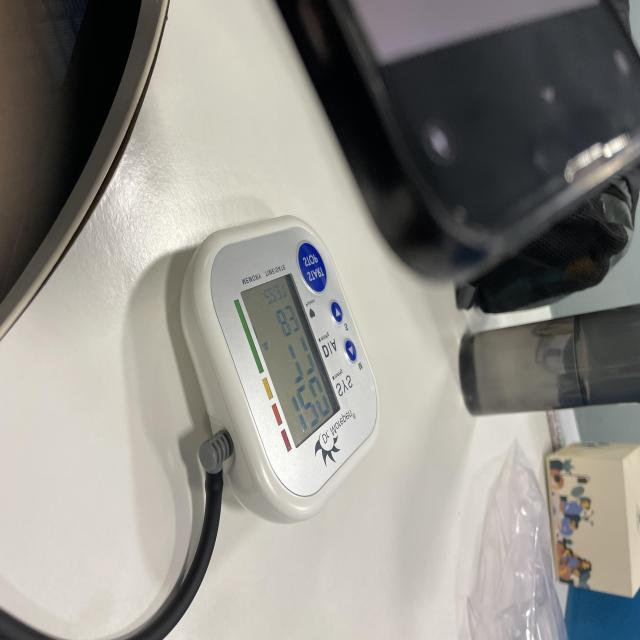bp: (178, 216, 381, 525)
